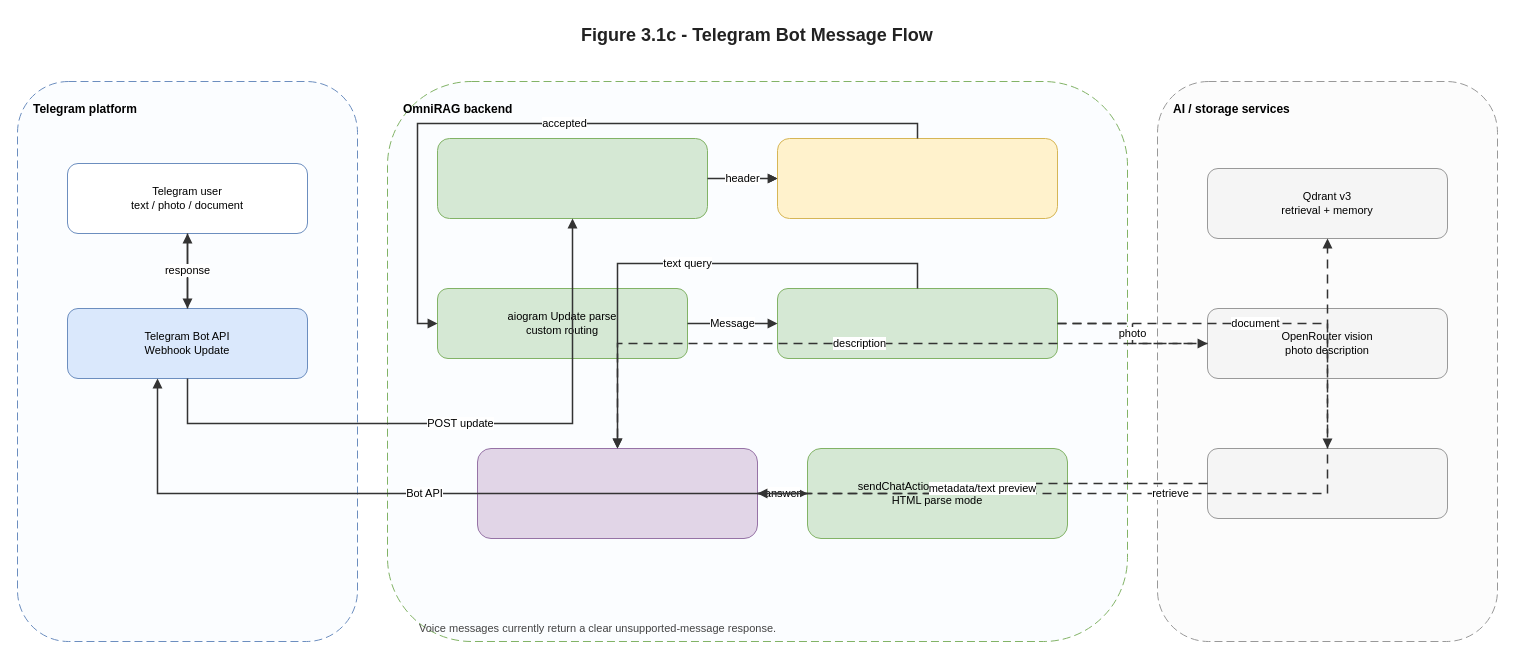
The diagram is 1515 pixels wide and 660 high, and some of its shapes have lost their labels. Each missing label, with the centre of its shape:
"FastAPI webhook /channels/telegram/webhook/{bot_id}" goes at (x=572, y=178).
"Handler router text | photo | document | voice" goes at (x=917, y=323).
"MinIO uploaded documents" goes at (x=1327, y=483).
"RAG chat core session_id = tg_{chat_id} memory enabled" goes at (x=617, y=493).
"Secret token verify X-Telegram-Bot-Api-Secret-Token" goes at (x=917, y=178).
